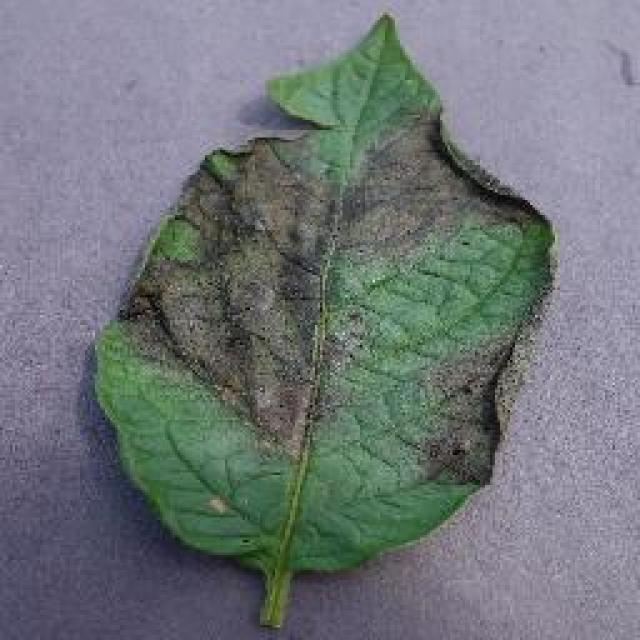late_blight: (91, 12, 556, 630)
